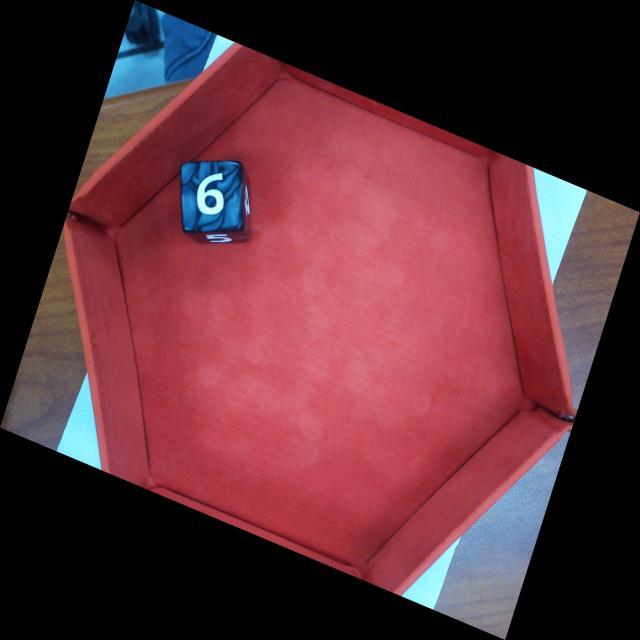dice: (179, 159, 245, 236)
